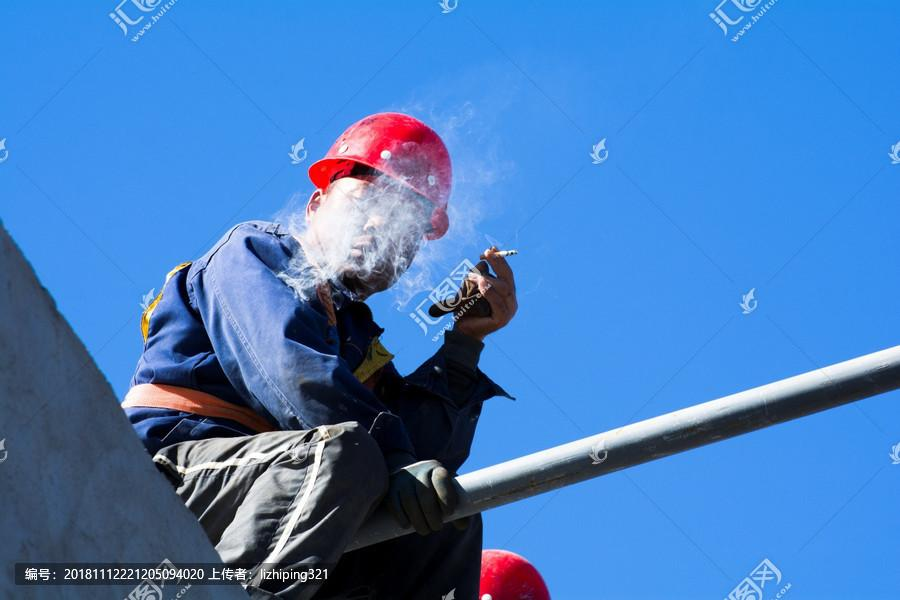helmet: (309, 108, 475, 219)
